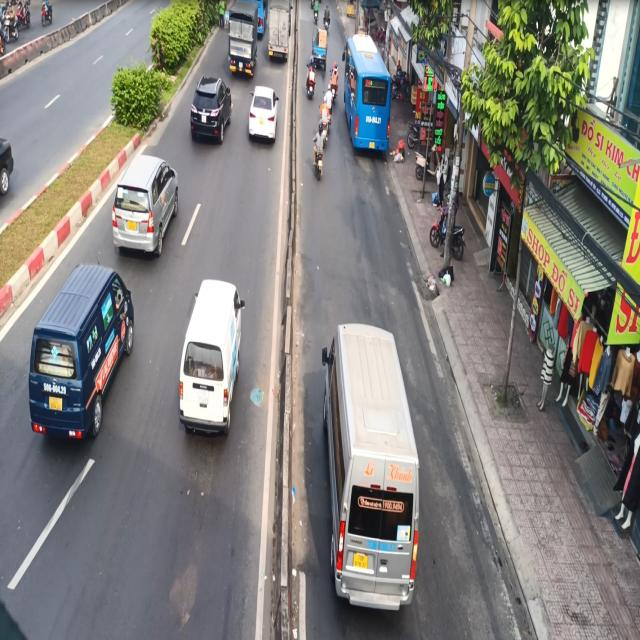bus: (341, 36, 394, 163)
car: (319, 326, 422, 629), (24, 260, 138, 471), (175, 275, 247, 439), (110, 147, 182, 257), (192, 68, 236, 151), (247, 83, 278, 157)
motor: (306, 121, 332, 183)
truck: (227, 0, 258, 76)
